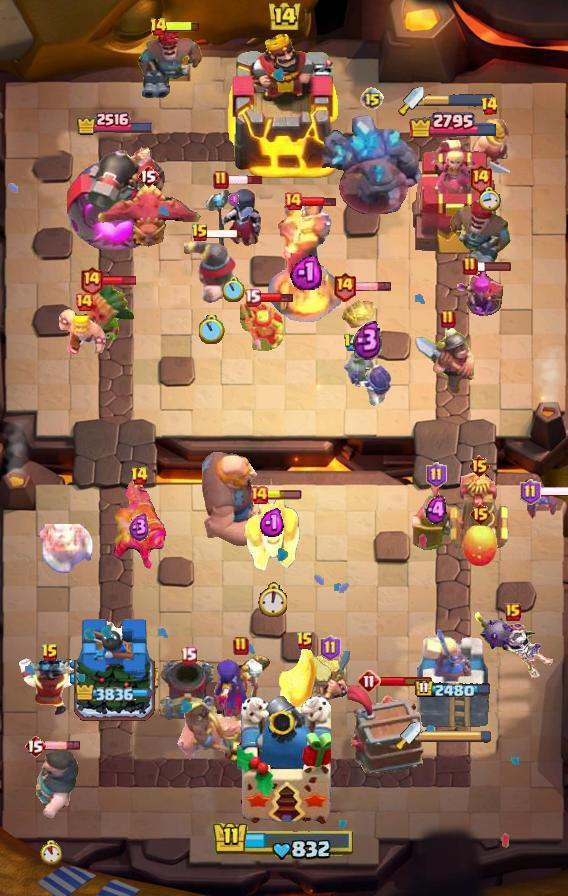archer-evolution: (457, 271, 509, 329)
axe: (39, 524, 95, 574)
bar: (380, 675, 433, 687), (258, 291, 294, 304), (301, 195, 337, 208), (165, 20, 201, 33), (227, 174, 264, 186), (476, 260, 512, 272), (44, 740, 81, 751), (355, 281, 392, 292), (207, 228, 244, 239), (102, 275, 137, 286), (539, 485, 568, 498), (266, 490, 302, 500)
bar-level: (332, 271, 357, 302), (79, 265, 104, 296), (468, 163, 493, 194), (357, 669, 381, 693), (360, 87, 384, 111), (469, 502, 492, 526), (468, 454, 491, 478), (320, 635, 341, 661), (520, 479, 541, 505), (426, 462, 447, 488), (24, 734, 46, 758), (137, 164, 159, 188), (249, 485, 269, 505), (74, 292, 94, 312), (283, 191, 303, 211), (130, 466, 149, 486), (480, 96, 499, 116), (149, 17, 168, 37), (343, 333, 362, 352), (41, 643, 59, 663), (296, 631, 314, 651), (191, 223, 209, 243), (180, 646, 197, 665), (244, 288, 261, 307), (233, 636, 249, 656), (440, 309, 456, 329), (462, 256, 478, 276), (213, 170, 229, 190), (505, 603, 521, 621)
barbarian: (52, 308, 116, 354)
barbarian-evolution: (310, 651, 350, 700)
bat: (526, 492, 558, 522)
bomber-evolution: (471, 610, 555, 680), (341, 345, 395, 407)
cannoneer-tower: (63, 136, 165, 256)
clock: (257, 582, 287, 617), (199, 315, 225, 344), (478, 186, 501, 211), (40, 840, 62, 865), (223, 277, 245, 302)
dagger-duchess-tower: (409, 138, 497, 256), (414, 623, 492, 731)
dagger-duchess-tower-bar: (421, 729, 493, 743), (424, 93, 496, 107)
dart-goblin: (80, 276, 136, 348)
electro-wizard: (15, 657, 85, 717)
elite-barbarian: (469, 117, 510, 173)
elixir: (353, 320, 383, 360), (290, 253, 322, 290), (259, 508, 286, 538), (426, 495, 447, 525), (129, 513, 150, 542), (228, 192, 240, 207)
firecracker-evolution: (111, 480, 167, 572)
hunter: (135, 23, 205, 101), (447, 194, 513, 274)
king-tower: (226, 33, 342, 181), (237, 696, 331, 826)
king-tower-bar: (212, 820, 356, 862)
knight: (279, 649, 331, 725), (184, 236, 240, 304)
lava-pup: (340, 288, 380, 332)
mega-minion: (241, 493, 303, 573)
miner: (414, 321, 482, 397)
mortar: (157, 656, 219, 724)
night-witch: (205, 184, 263, 254)
phoenix-egg: (460, 524, 500, 568)
queen-tower: (70, 616, 158, 731)
royal-recruit: (411, 483, 461, 551)
spear-goblin: (240, 300, 286, 352)
tesla: (448, 469, 510, 553)
tower-bar: (408, 110, 499, 138), (75, 110, 154, 136), (414, 679, 492, 700), (75, 685, 153, 702)
witch: (211, 652, 271, 720)
